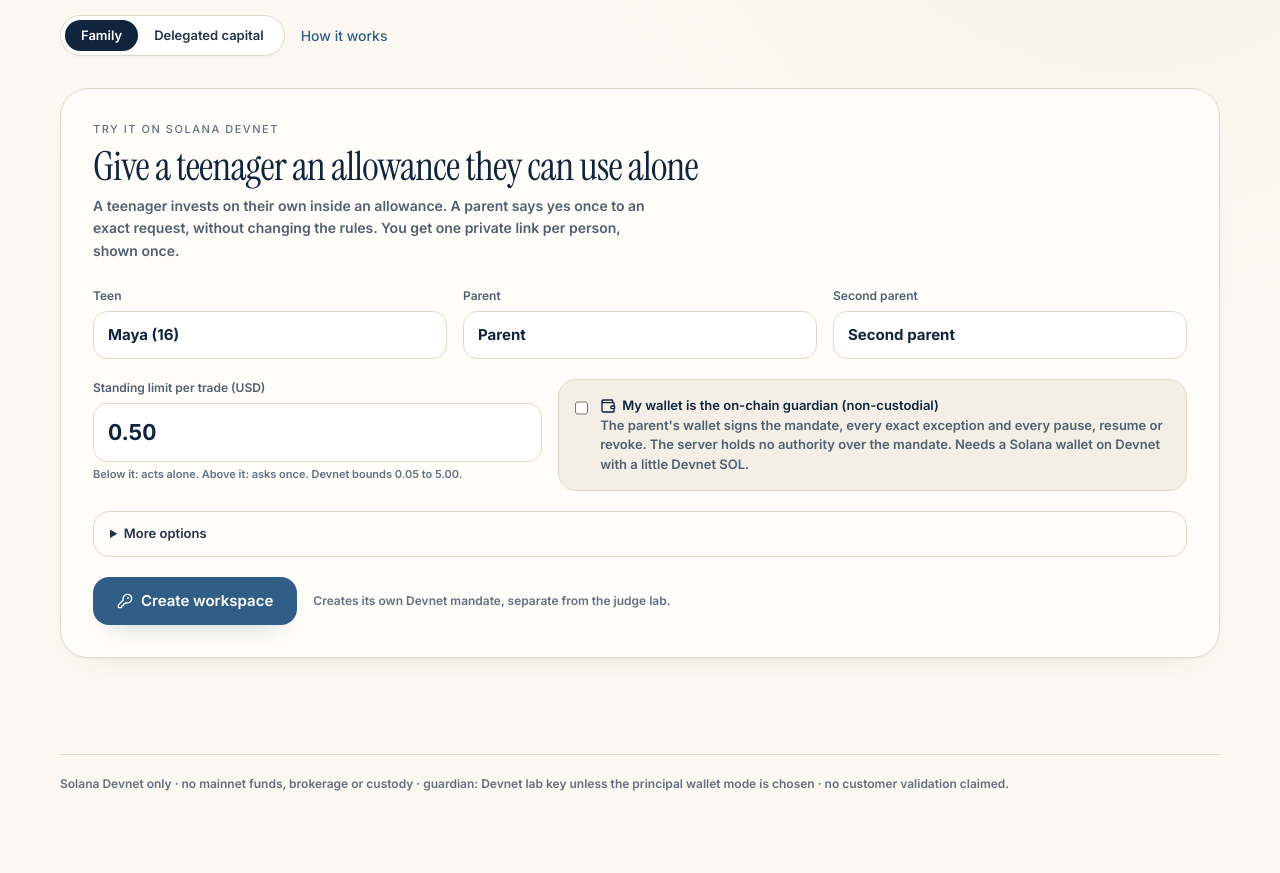
Test: World's Fair desk › creates a workspace, hands off one link per role and keeps tokens for this viewer
(page scrolled)
What coordinates should you click on to do the following:
click the button "Create workspace"
I would click on:
 (195, 601)
Its box is top-left (93, 577), bottom-right (297, 625).
(page scrolled)
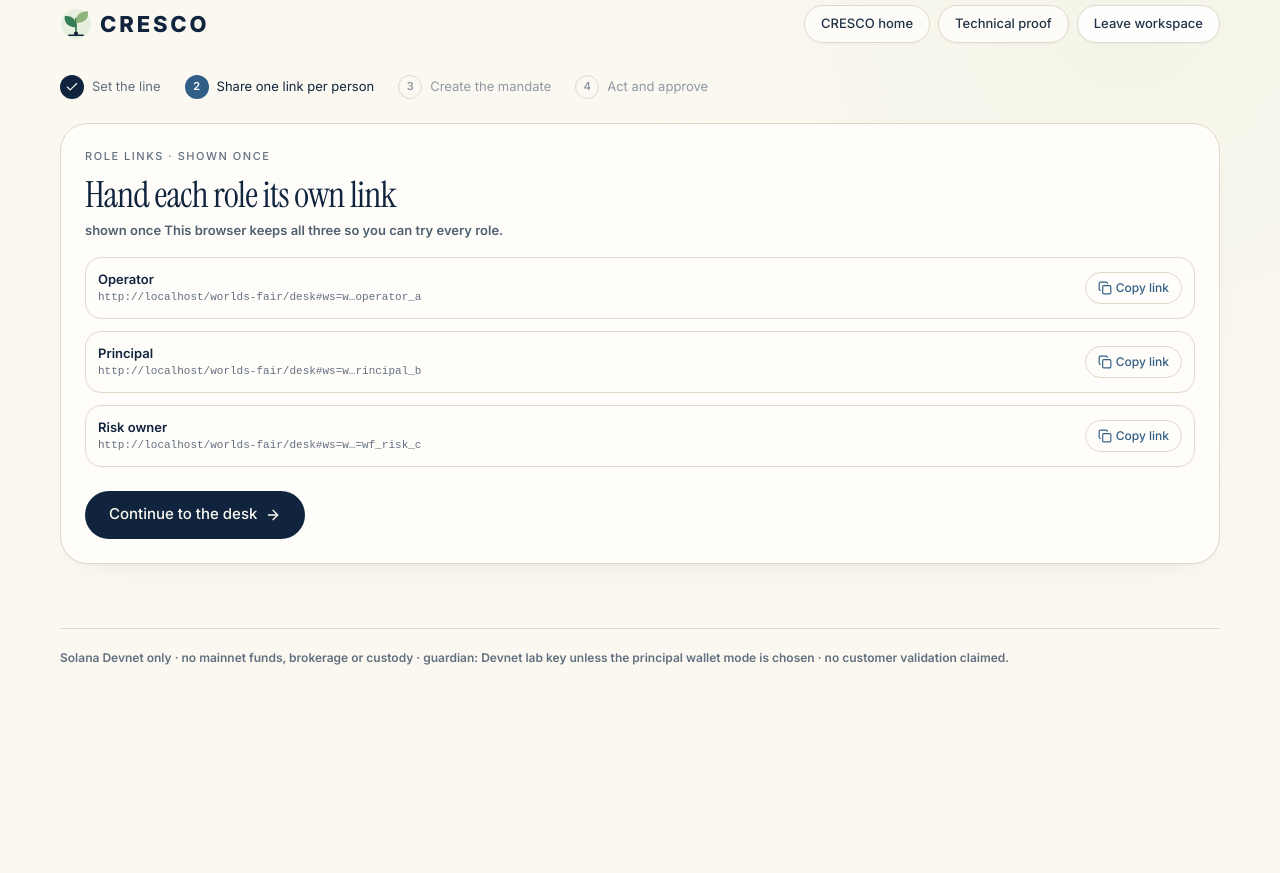
expect the heading "Hand each role its own link" is shown: met, box top-left (85, 171), bottom-right (396, 218)
expect the number of buttons "Copy link" is 3: met, box top-left (1085, 272), bottom-right (1182, 304); top-left (1085, 346), bottom-right (1182, 378); top-left (1085, 420), bottom-right (1182, 452)
